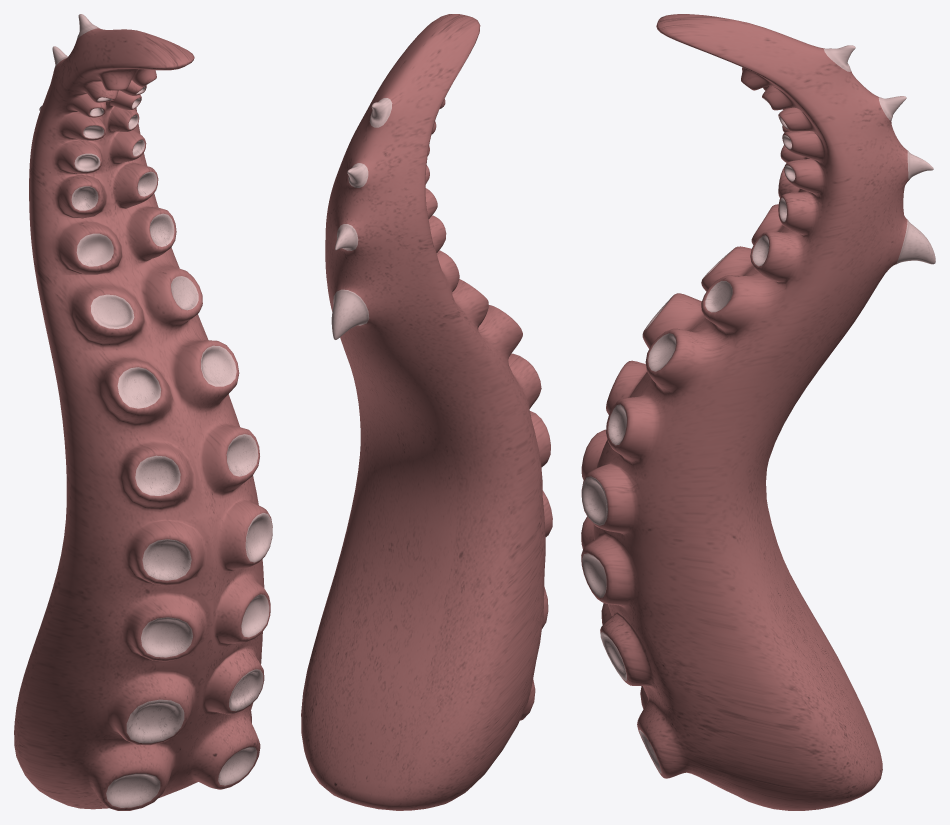
Rendered from tentacle_new_new.fbx.
3 views of the same model, side by side, from view 1: azimuth 30°, elevation 25°; view 2: azimuth 150°, elevation 25°; view 3: azimuth 270°, elevation 25° (orthographic). The views are drawn at different scales.
Visible parts, largest first — view 1: pCylinder3; view 2: pCylinder3; view 3: pCylinder3.
Boxes of the visible parts, x1=… form: pCylinder3: x1=14, y1=14, x2=272, y2=810; pCylinder3: x1=301, y1=14, x2=552, y2=810; pCylinder3: x1=581, y1=14, x2=935, y2=810.
Bounding box in the file's own units: 4.21 × 15.99 × 6.63.
Materials: 1 (1 with a texture image).
